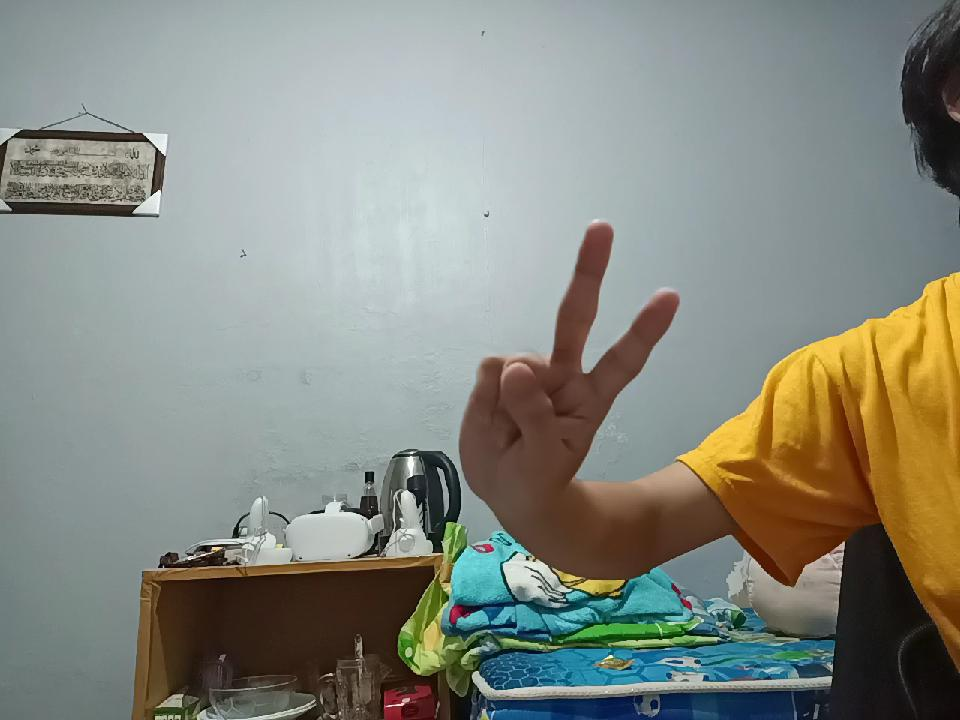scissors: (451, 211, 683, 486)
